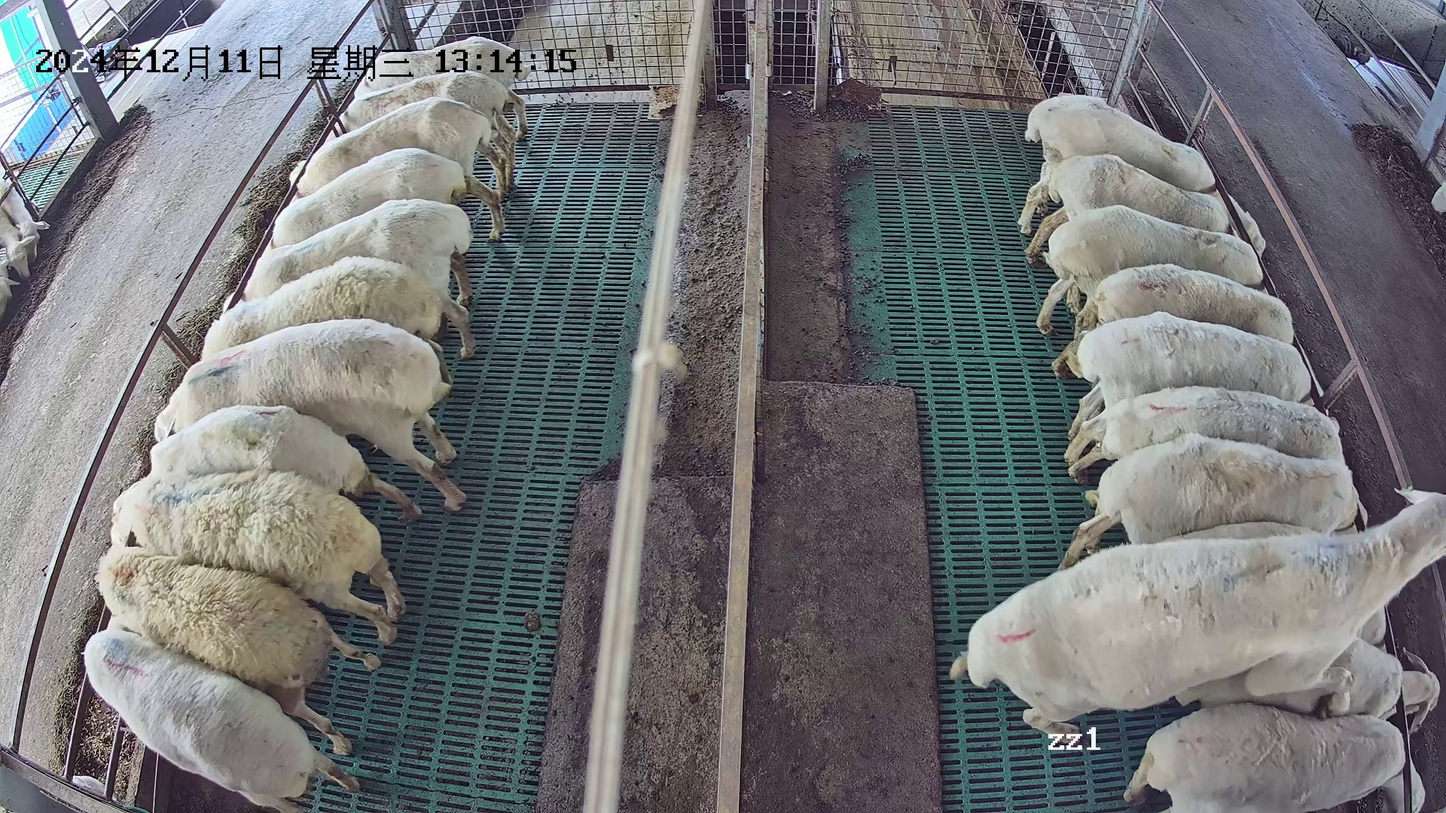Smounting: (951, 485, 1446, 740)
mounted: (1171, 633, 1441, 737)
